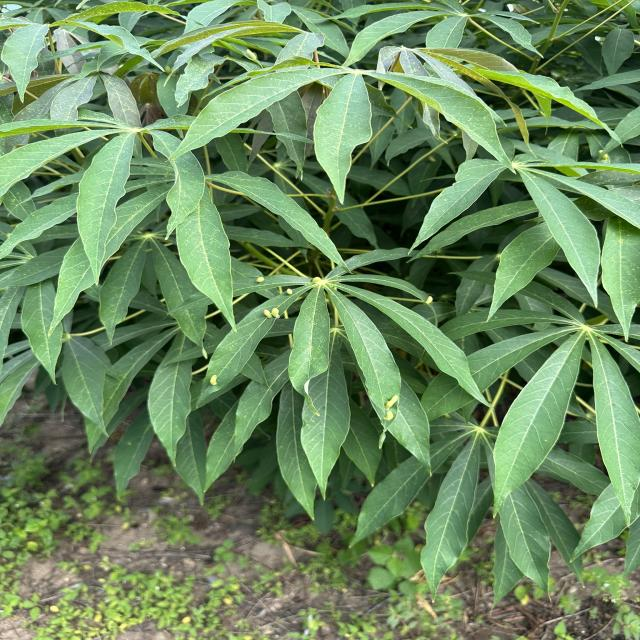Mosca: (384, 386, 402, 424), (259, 304, 294, 321), (415, 290, 444, 310), (593, 142, 611, 164), (245, 272, 266, 287), (281, 280, 298, 294), (208, 372, 222, 389)
